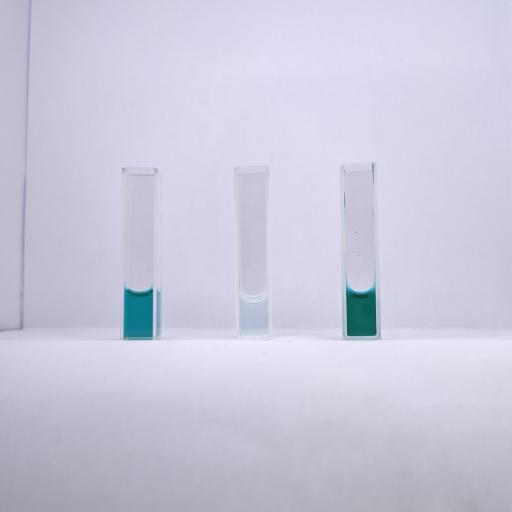cuvette: (338, 161, 382, 342), (231, 164, 274, 340), (120, 166, 159, 340)
liquid: (346, 286, 376, 336), (124, 288, 153, 336), (239, 294, 268, 336)
